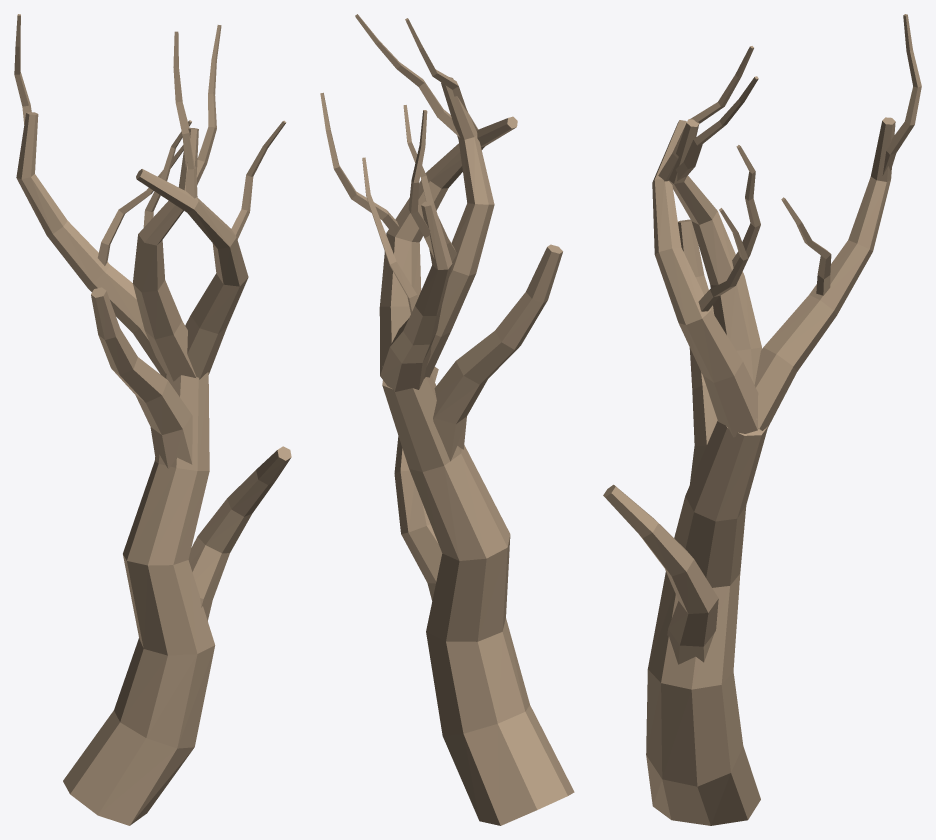
Rendered from SM_Desert_DeadTree_A.glb.
The picture shows the model from 3 angles, left to right: view 1: azimuth 30°, elevation 25°; view 2: azimuth 150°, elevation 25°; view 3: azimuth 270°, elevation 25°; orthographic projection. The views are drawn at different scales.
Visible parts, largest first — view 1: SM_Desert_DeadTree_A; view 2: SM_Desert_DeadTree_A; view 3: SM_Desert_DeadTree_A.
Part boxes in pixels (left/top/right/bottom): SM_Desert_DeadTree_A: left=14, top=14, right=291, bottom=825; SM_Desert_DeadTree_A: left=320, top=14, right=574, bottom=825; SM_Desert_DeadTree_A: left=603, top=14, right=921, bottom=825.
Bounding box in the file's own units: 1.01 × 3.18 × 1.14.
